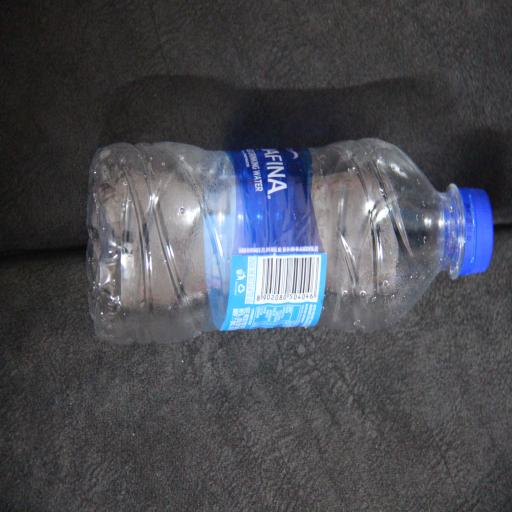Aquafina: (92, 28, 229, 512)
